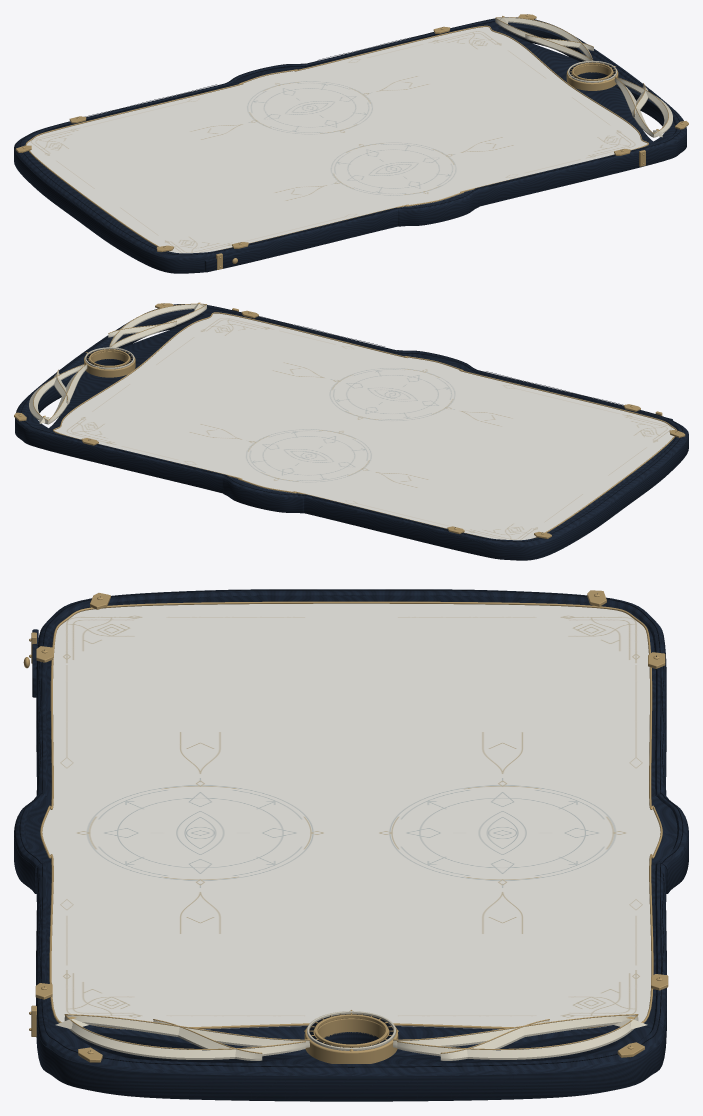
Rendered from board.glb.
3 views of the same model, one above another, from view 1: azimuth 30°, elevation 25°; view 2: azimuth 150°, elevation 25°; view 3: azimuth 270°, elevation 25° (orthographic). The views are drawn at different scales.
Visible parts, largest first — view 1: aligned_02_IvoryWeave, aligned_01_InkWood, aligned_04_ChampagneBrass, aligned_05_WarmSilver, aligned_06_RecessInk; view 2: aligned_02_IvoryWeave, aligned_01_InkWood, aligned_04_ChampagneBrass, aligned_05_WarmSilver, aligned_06_RecessInk; view 3: aligned_02_IvoryWeave, aligned_01_InkWood, aligned_04_ChampagneBrass, aligned_05_WarmSilver, aligned_06_RecessInk.
Boxes of the visible parts, x1=… form: aligned_02_IvoryWeave: x1=26, y1=27, x2=647, y2=253; aligned_01_InkWood: x1=14, y1=17, x2=686, y2=273; aligned_04_ChampagneBrass: x1=15, y1=14, x2=688, y2=269; aligned_05_WarmSilver: x1=495, y1=17, x2=672, y2=137; aligned_06_RecessInk: x1=20, y1=14, x2=682, y2=254; aligned_02_IvoryWeave: x1=54, y1=313, x2=674, y2=540; aligned_01_InkWood: x1=15, y1=304, x2=688, y2=560; aligned_04_ChampagneBrass: x1=14, y1=302, x2=685, y2=538; aligned_05_WarmSilver: x1=29, y1=303, x2=206, y2=424; aligned_06_RecessInk: x1=21, y1=303, x2=682, y2=541; aligned_02_IvoryWeave: x1=42, y1=603, x2=660, y2=1029; aligned_01_InkWood: x1=14, y1=589, x2=688, y2=1101; aligned_04_ChampagneBrass: x1=23, y1=590, x2=668, y2=1063; aligned_05_WarmSilver: x1=55, y1=1011, x2=647, y2=1060; aligned_06_RecessInk: x1=19, y1=589, x2=683, y2=1067.
Size of the model in its own units: 1.6 by 0.069 by 0.94.
Materials: 5 (2 with a texture image).
